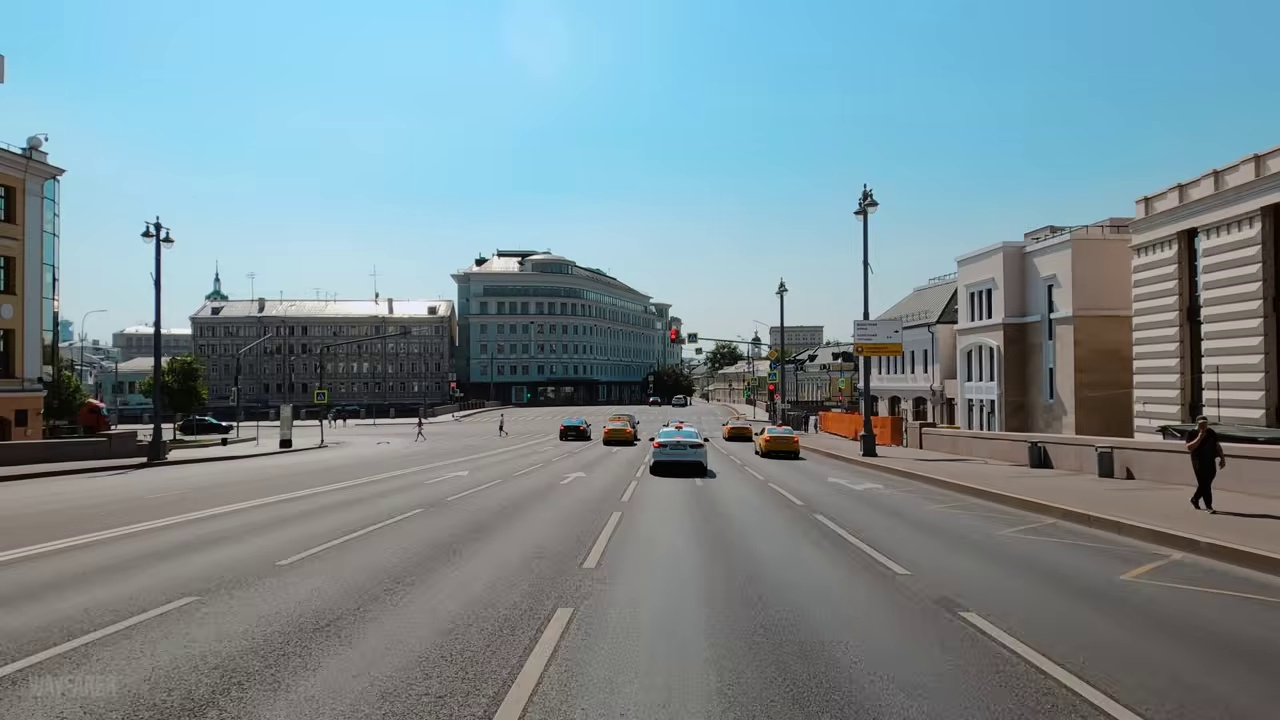apagada: (138, 221, 176, 253), (849, 191, 882, 222)
